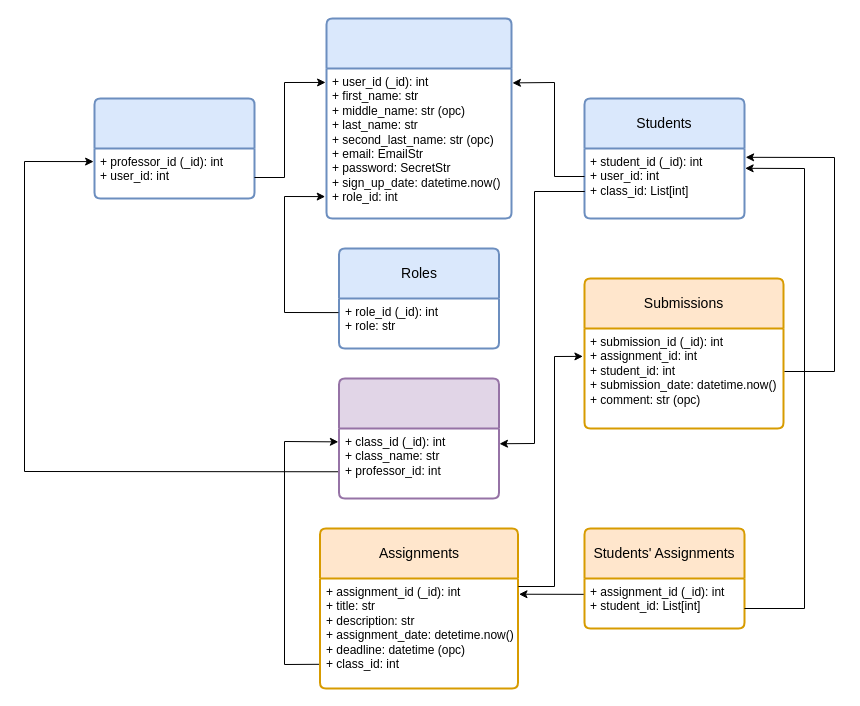
Some shapes in this 860 by 706 pixel diagram are drawn without their labels. Here are the shapes that lost their labels. From the top down, the box of each, then its label:
(325, 17, 512, 219): Users
(93, 97, 255, 199): Professors
(338, 377, 500, 499): Classes
